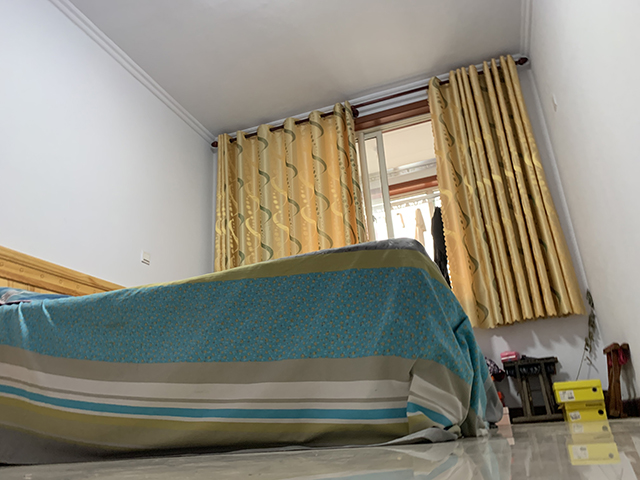bed: (1, 235, 507, 467)
curtain: (431, 51, 577, 328)
stool: (501, 356, 566, 423), (602, 341, 634, 419)
